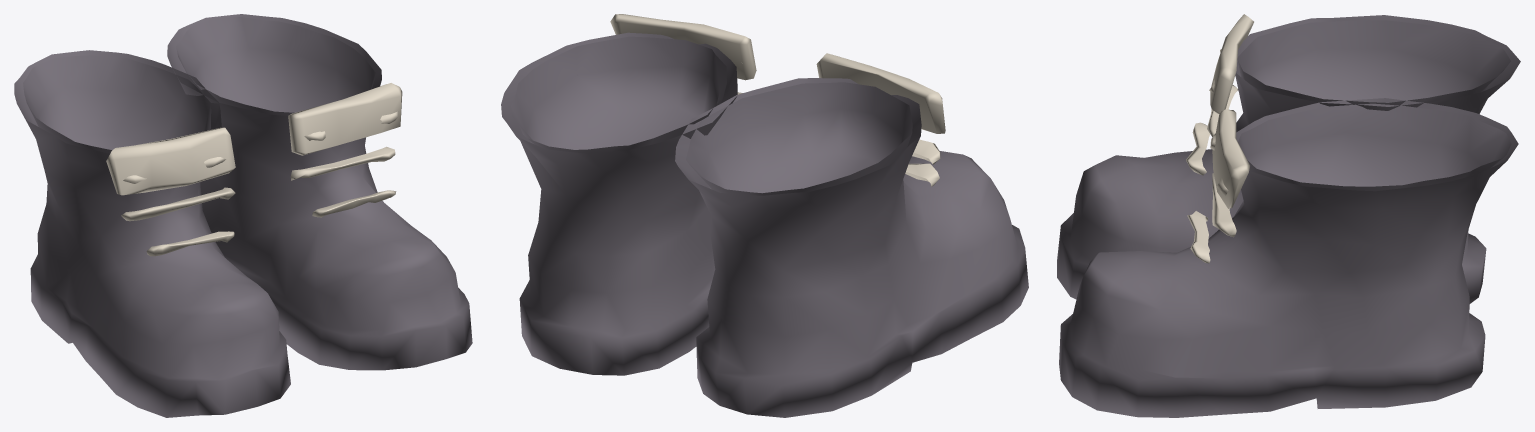
Rendered from boots-only.glb.
3 renders of one model, left to right at view 1: azimuth 30°, elevation 25°; view 2: azimuth 150°, elevation 25°; view 3: azimuth 270°, elevation 25°, orthographic. The views are drawn at different scales.
Visible parts, largest first — view 1: Footwear_boots_0, Footwear_boots_1; view 2: Footwear_boots_0, Footwear_boots_1; view 3: Footwear_boots_0, Footwear_boots_1.
Boxes of the visible parts, left/top/right/bottom form: Footwear_boots_0: left=14, top=14, right=472, bottom=417; Footwear_boots_1: left=106, top=83, right=402, bottom=256; Footwear_boots_0: left=501, top=32, right=1028, bottom=417; Footwear_boots_1: left=610, top=14, right=945, bottom=186; Footwear_boots_0: left=1057, top=15, right=1520, bottom=417; Footwear_boots_1: left=1186, top=14, right=1253, bottom=263.
Bounding box in the file's own units: 0.9417 × 0.5889 × 1.03.
